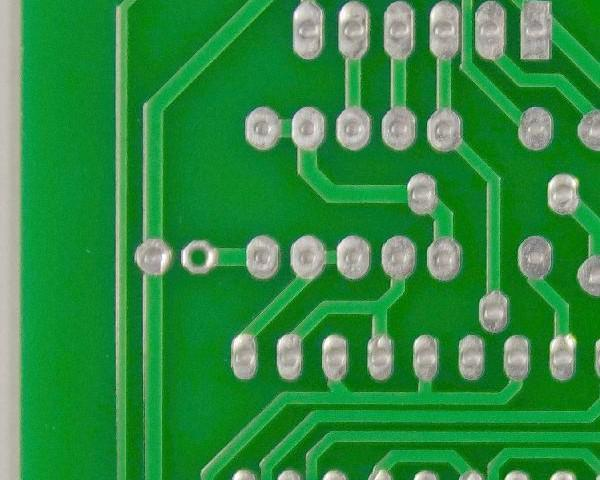missing hole: (176, 236, 222, 277)
